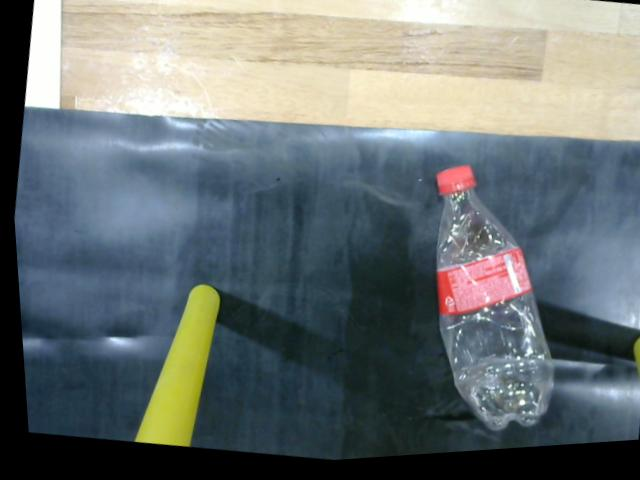bottle: (420, 161, 558, 445)
